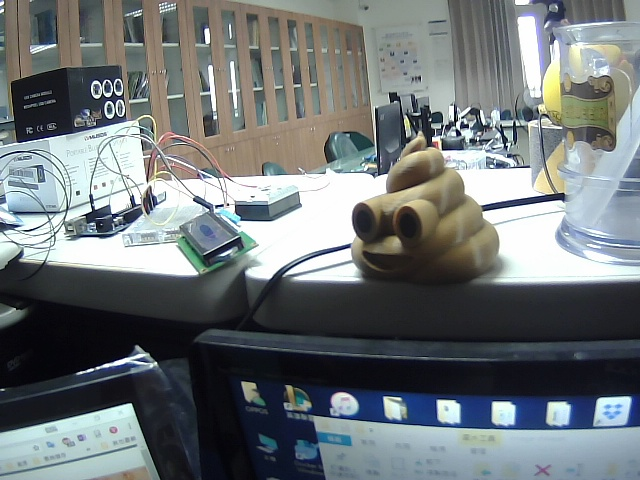shit: (350, 128, 512, 295)
